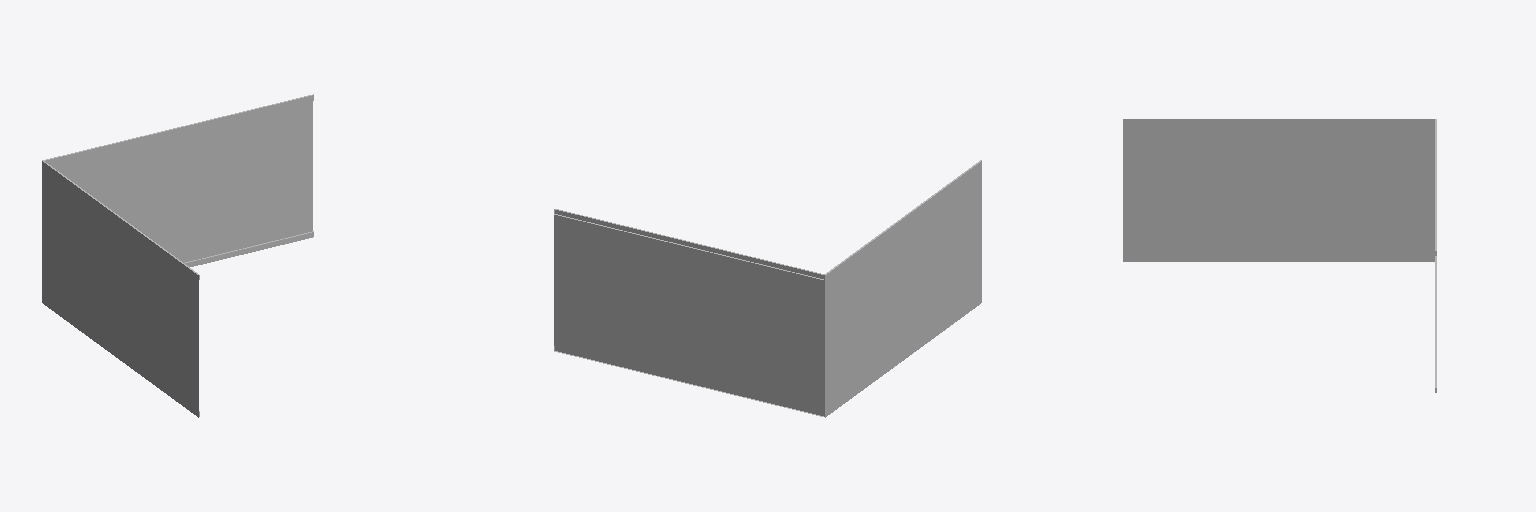
The model's file is wall.obj.
The picture shows the model from 3 angles: view 1: azimuth 30°, elevation 25°; view 2: azimuth 150°, elevation 25°; view 3: azimuth 270°, elevation 25°; orthographic projection.
Visible parts, largest first — view 1: Plane.4; view 2: Plane.4; view 3: Plane.4.
Boxes of the visible parts, x1=… form: Plane.4: x1=42, y1=94, x2=313, y2=417; Plane.4: x1=554, y1=160, x2=981, y2=417; Plane.4: x1=1123, y1=119, x2=1436, y2=392.
Size of the model in its own units: 400 by 200 by 401.